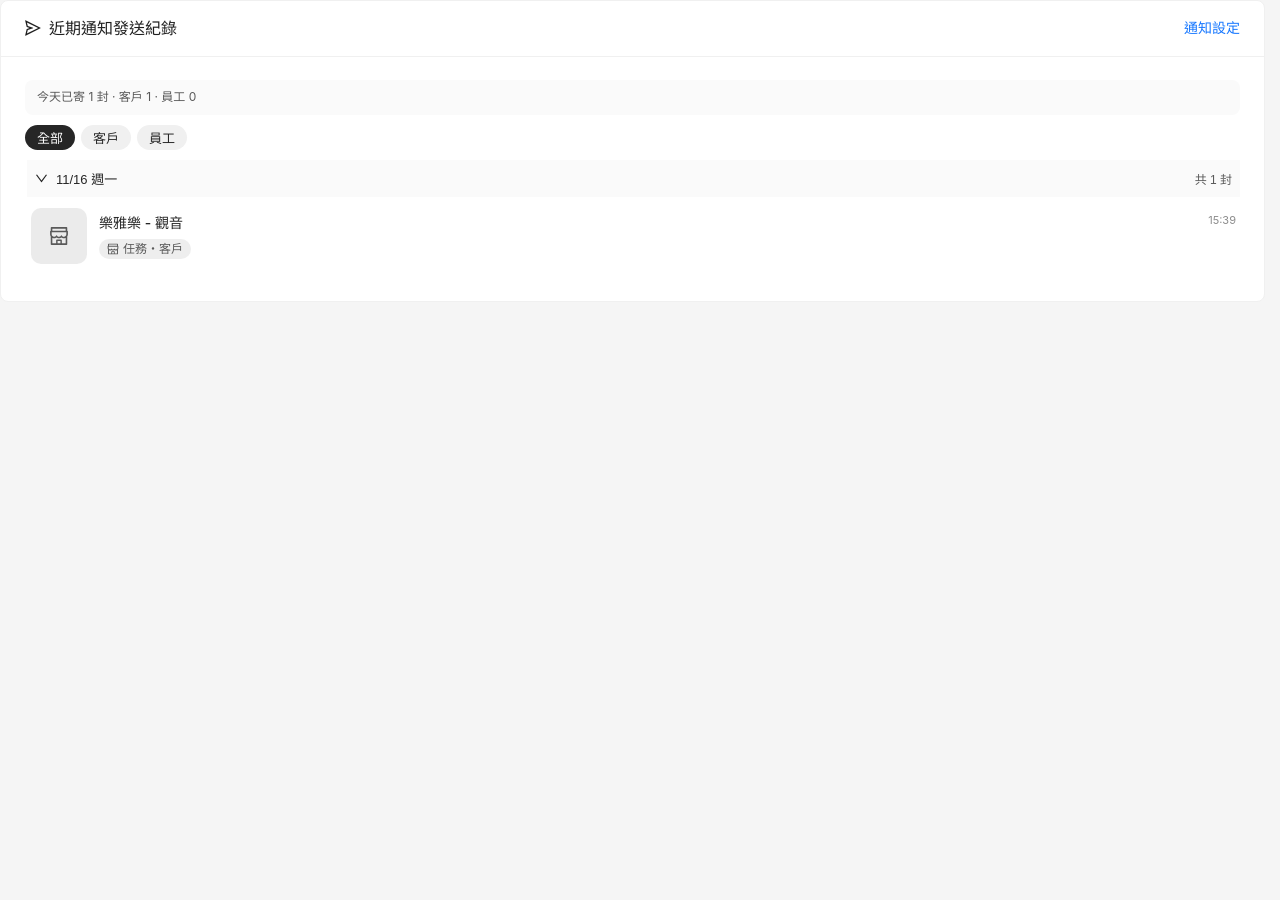
Test: SendLogCard › 列表顯示標籤與收件對象，點擊開啟通知發送詳情
The image size is (1280, 900).
Expected: the text "任務・客戶" is shown, [99,239,191,259]
Expected: the text "樂雅樂 - 觀音" is shown, [99,212,183,234]
Click the button with test id "send-log-row": click(59, 236) [27,197,1240,275]
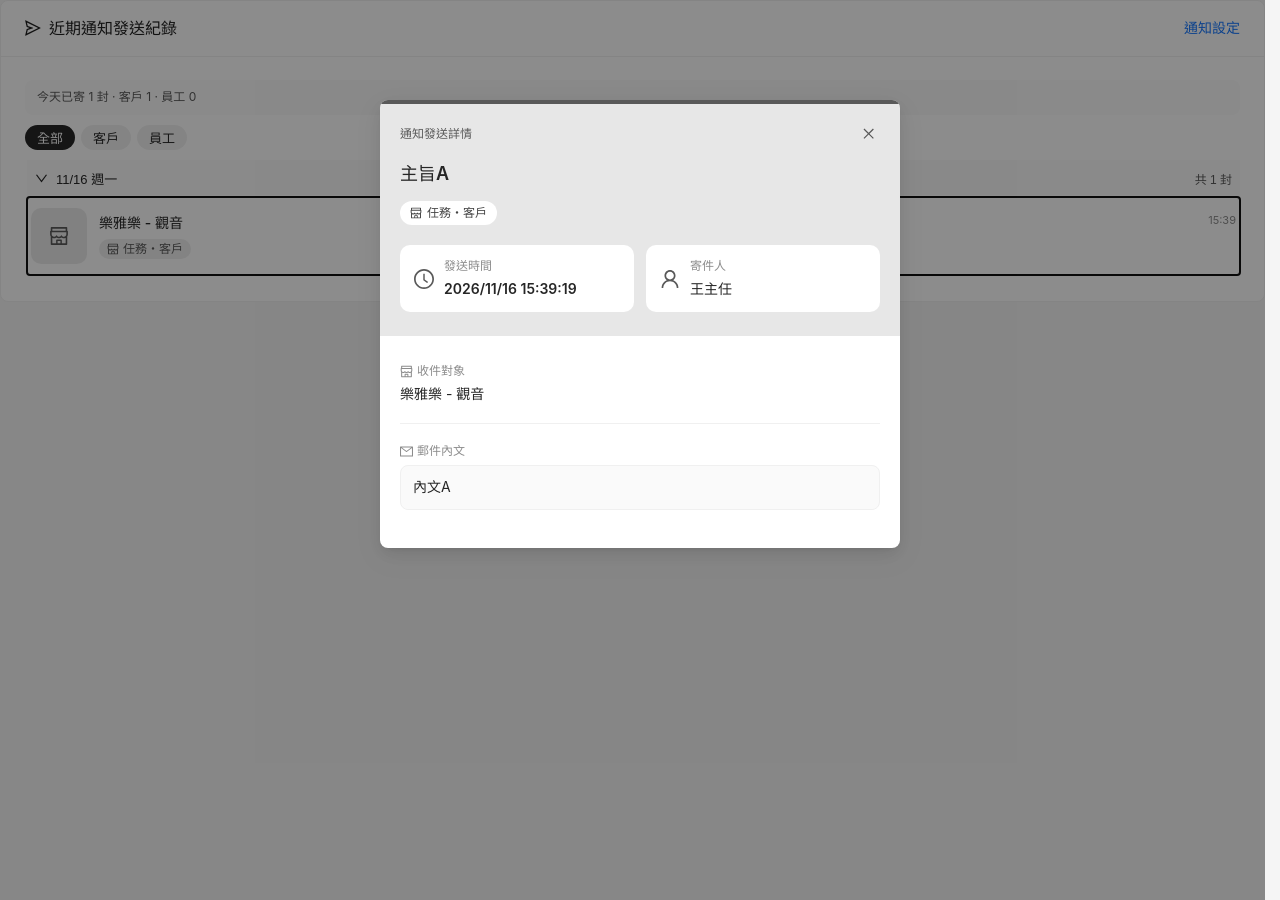
Now the text "通知發送詳情" is shown, box [400,125,472,143]
Now the text "主旨A" is shown, box [400,163,449,184]
